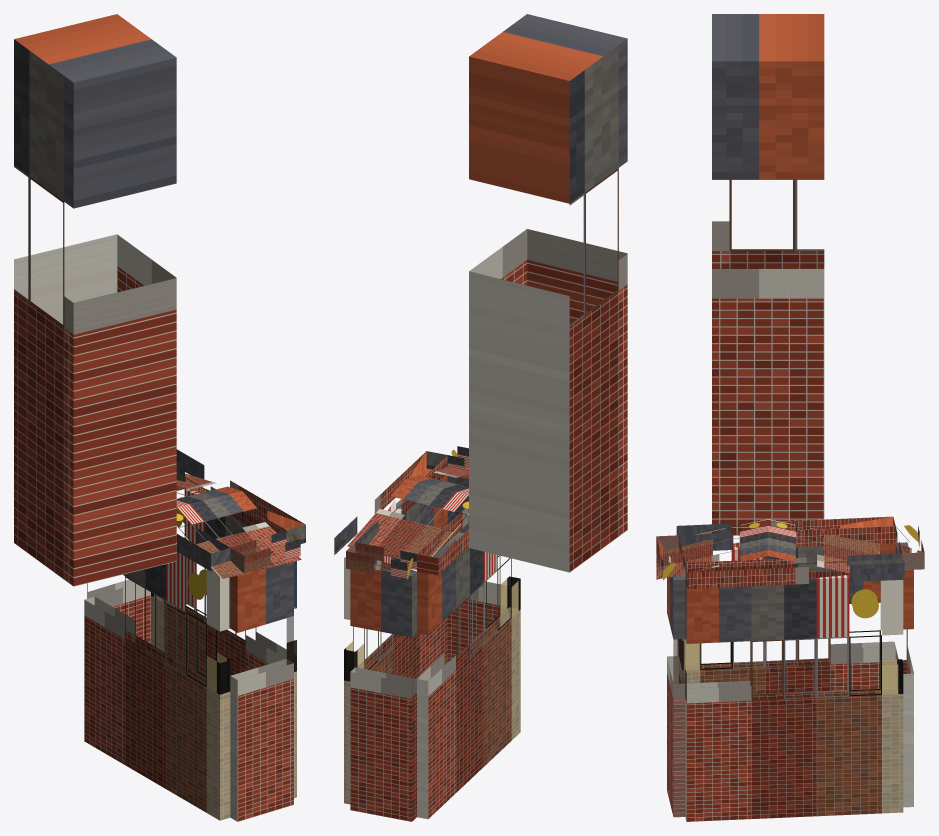
3 renders of one model, left to right at view 1: azimuth 30°, elevation 25°; view 2: azimuth 150°, elevation 25°; view 3: azimuth 270°, elevation 25°, orthographic. The views are drawn at different scales.
Visible parts, largest first — view 1: 439884895__chimney_0_xb, 439884895__wall_0_xb, 439884895__wall_3_xb, 439884895__wall_2_xb, 439884895_roof_-1_xb, 439884895__cornice_2, 439884895__wall_1_xb, 439884895__cornice_3, 439884895__cornice_0, 439884895_roof_1_xb, 439884895__wall_0_xf; view 2: 439884895__chimney_0_xb, 439884895__wall_0_xb, 439884895__wall_1_xb, 439884895__wall_2_xb, 439884895_roof_1_xb, 439884895__wall_3_xb, 439884895__cornice_2, 439884895__cornice_1, 439884895__cornice_0, 439884895_roof_-1_xb, 439884895__wall_0_xf; view 3: 439884895__chimney_0_xb, 439884895__wall_2_xb, 439884895__wall_0_xb, 439884895__cornice_2, 439884895__wall_3_xb, 439884895__cornice_0, 439884895_roof_1_xb, 439884895__wall_1_xb, 439884895_roof_-1_xb, 439884895__wall_2_xf, 439884895__cornice_1, 439884895__cornice_3.
Part boxes in pixels (x1,y1,x2,y2): 439884895__chimney_0_xb: [14, 14, 176, 586]; 439884895__wall_0_xb: [84, 540, 230, 820]; 439884895__wall_3_xb: [230, 562, 293, 821]; 439884895__wall_2_xb: [151, 488, 296, 797]; 439884895_roof_-1_xb: [176, 491, 301, 579]; 439884895__cornice_2: [176, 449, 305, 543]; 439884895__wall_1_xb: [87, 579, 150, 643]; 439884895__cornice_3: [230, 530, 300, 573]; 439884895__cornice_0: [176, 528, 230, 571]; 439884895_roof_1_xb: [176, 473, 242, 506]; 439884895__wall_0_xf: [207, 578, 229, 693]; 439884895__chimney_0_xb: [469, 14, 627, 572]; 439884895__wall_0_xb: [417, 523, 520, 819]; 439884895__wall_1_xb: [350, 563, 416, 821]; 439884895__wall_2_xb: [344, 475, 447, 804]; 439884895_roof_1_xb: [347, 479, 468, 559]; 439884895__wall_3_xb: [447, 476, 506, 662]; 439884895__cornice_2: [334, 451, 447, 554]; 439884895__cornice_1: [346, 542, 416, 579]; 439884895__cornice_0: [417, 508, 468, 575]; 439884895_roof_-1_xb: [405, 463, 468, 494]; 439884895__wall_0_xf: [500, 577, 519, 616]; 439884895__chimney_0_xb: [712, 14, 824, 535]; 439884895__wall_2_xb: [685, 575, 903, 821]; 439884895__wall_0_xb: [678, 543, 895, 694]; 439884895__cornice_2: [685, 553, 904, 588]; 439884895__wall_3_xb: [667, 575, 685, 817]; 439884895__cornice_0: [676, 516, 895, 550]; 439884895_roof_1_xb: [768, 519, 879, 573]; 439884895__wall_1_xb: [895, 542, 913, 807]; 439884895_roof_-1_xb: [656, 519, 768, 579]; 439884895__wall_2_xf: [685, 582, 902, 694]; 439884895__cornice_1: [895, 525, 924, 570]; 439884895__cornice_3: [656, 535, 685, 580].
Bounding box in the file's own units: 0.3189 × 1.05 × 0.3585.
1 material, 1 textured.
